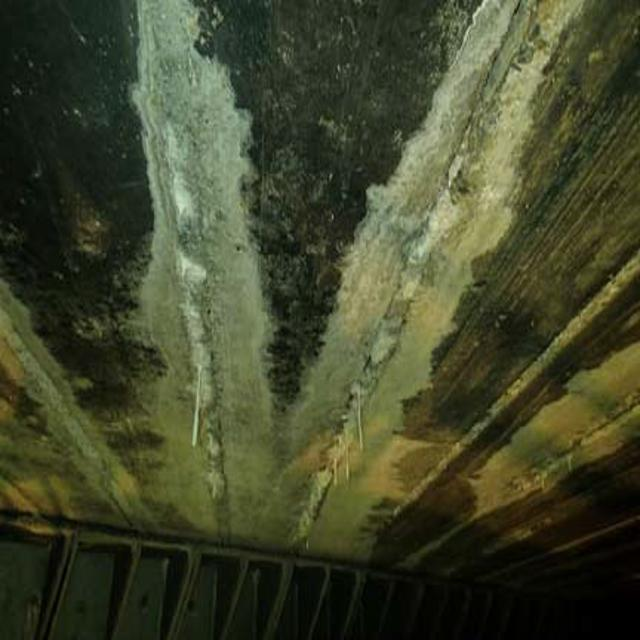corrosion: (163, 139, 234, 524), (359, 169, 454, 410)
